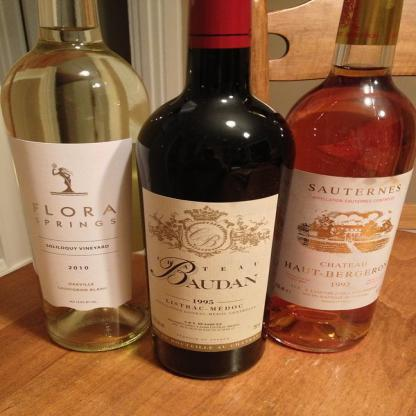drinking: (136, 0, 298, 380), (263, 0, 415, 354), (2, 0, 154, 352)
